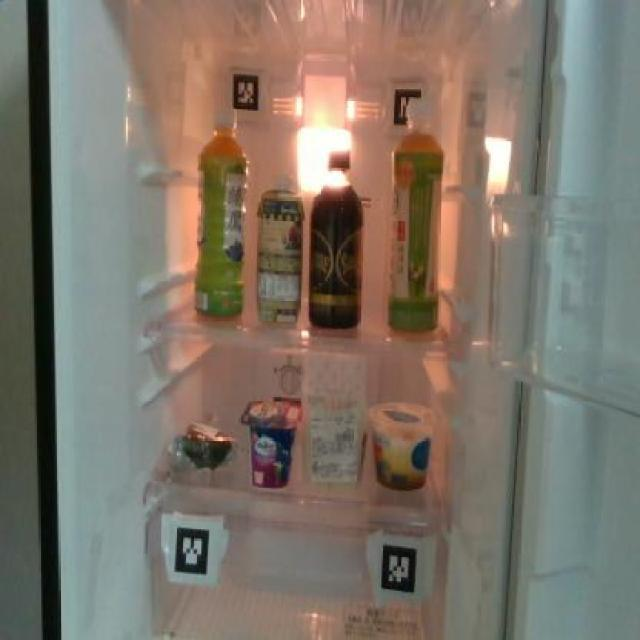bottle: (390, 98, 444, 337), (190, 104, 248, 320)
coffee: (306, 144, 366, 328)
pudding: (366, 397, 436, 494)
rice_ball: (168, 414, 240, 476)
sandwich: (304, 349, 367, 486)
smoothie: (253, 171, 304, 326)
yogurt: (240, 394, 302, 491)
